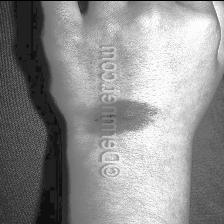Potentially Malignant Skin Tumors: (116, 100, 160, 134)
